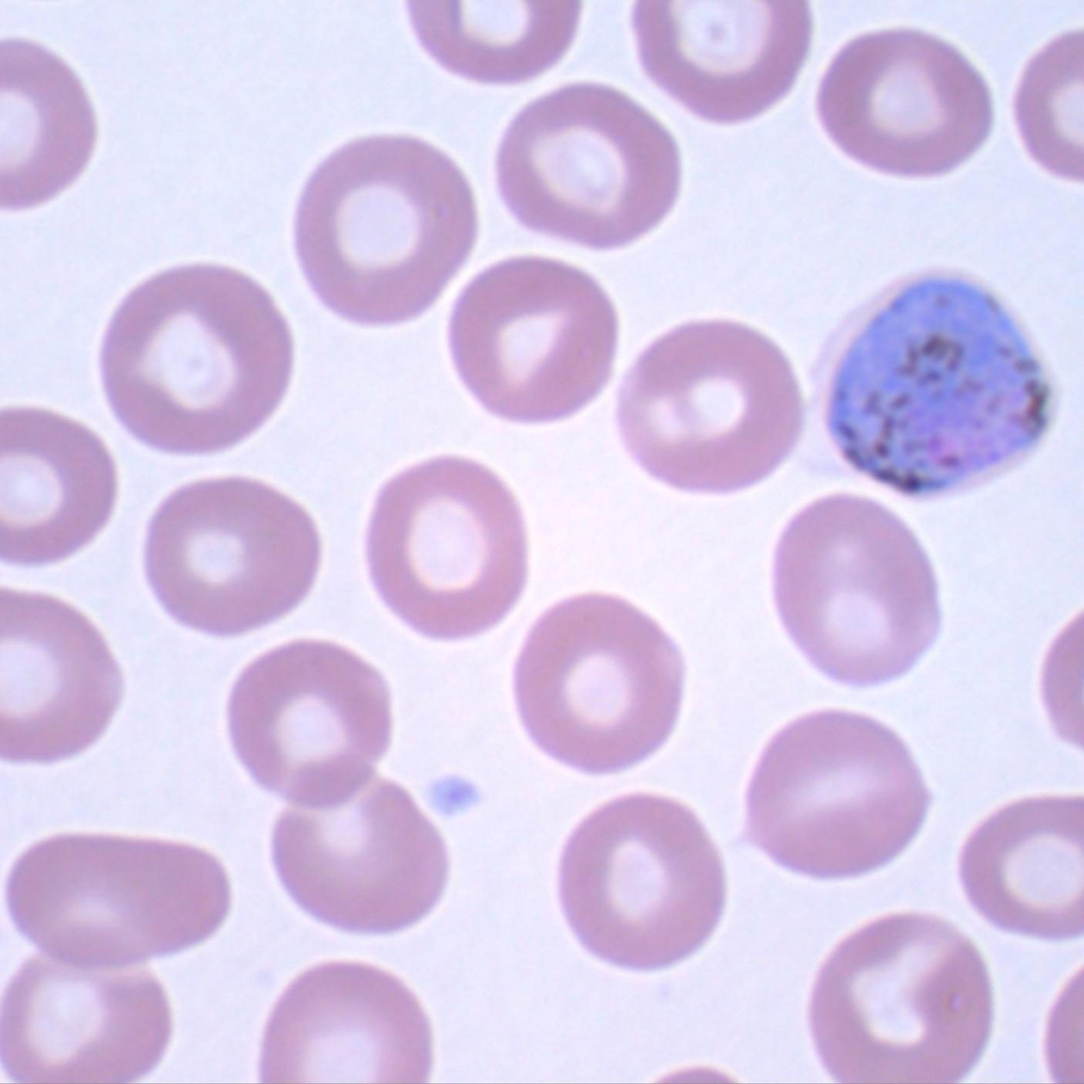Infected: (803, 268, 1053, 504)
Uninfected: (295, 129, 480, 330), (100, 264, 294, 454), (616, 318, 802, 495), (769, 493, 938, 687), (741, 711, 928, 880), (6, 828, 225, 969), (497, 82, 680, 249), (221, 637, 398, 809), (513, 593, 684, 771), (366, 453, 529, 637), (808, 914, 987, 1079), (556, 794, 724, 969), (447, 257, 617, 423), (145, 475, 319, 637), (270, 780, 447, 933), (816, 27, 989, 177), (636, 2, 814, 124), (2, 958, 166, 1084), (258, 964, 430, 1082)
